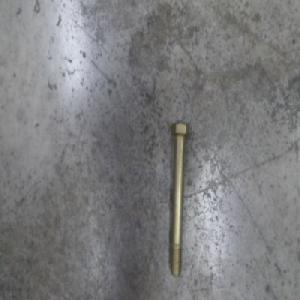Bolt: (169, 119, 190, 278)
